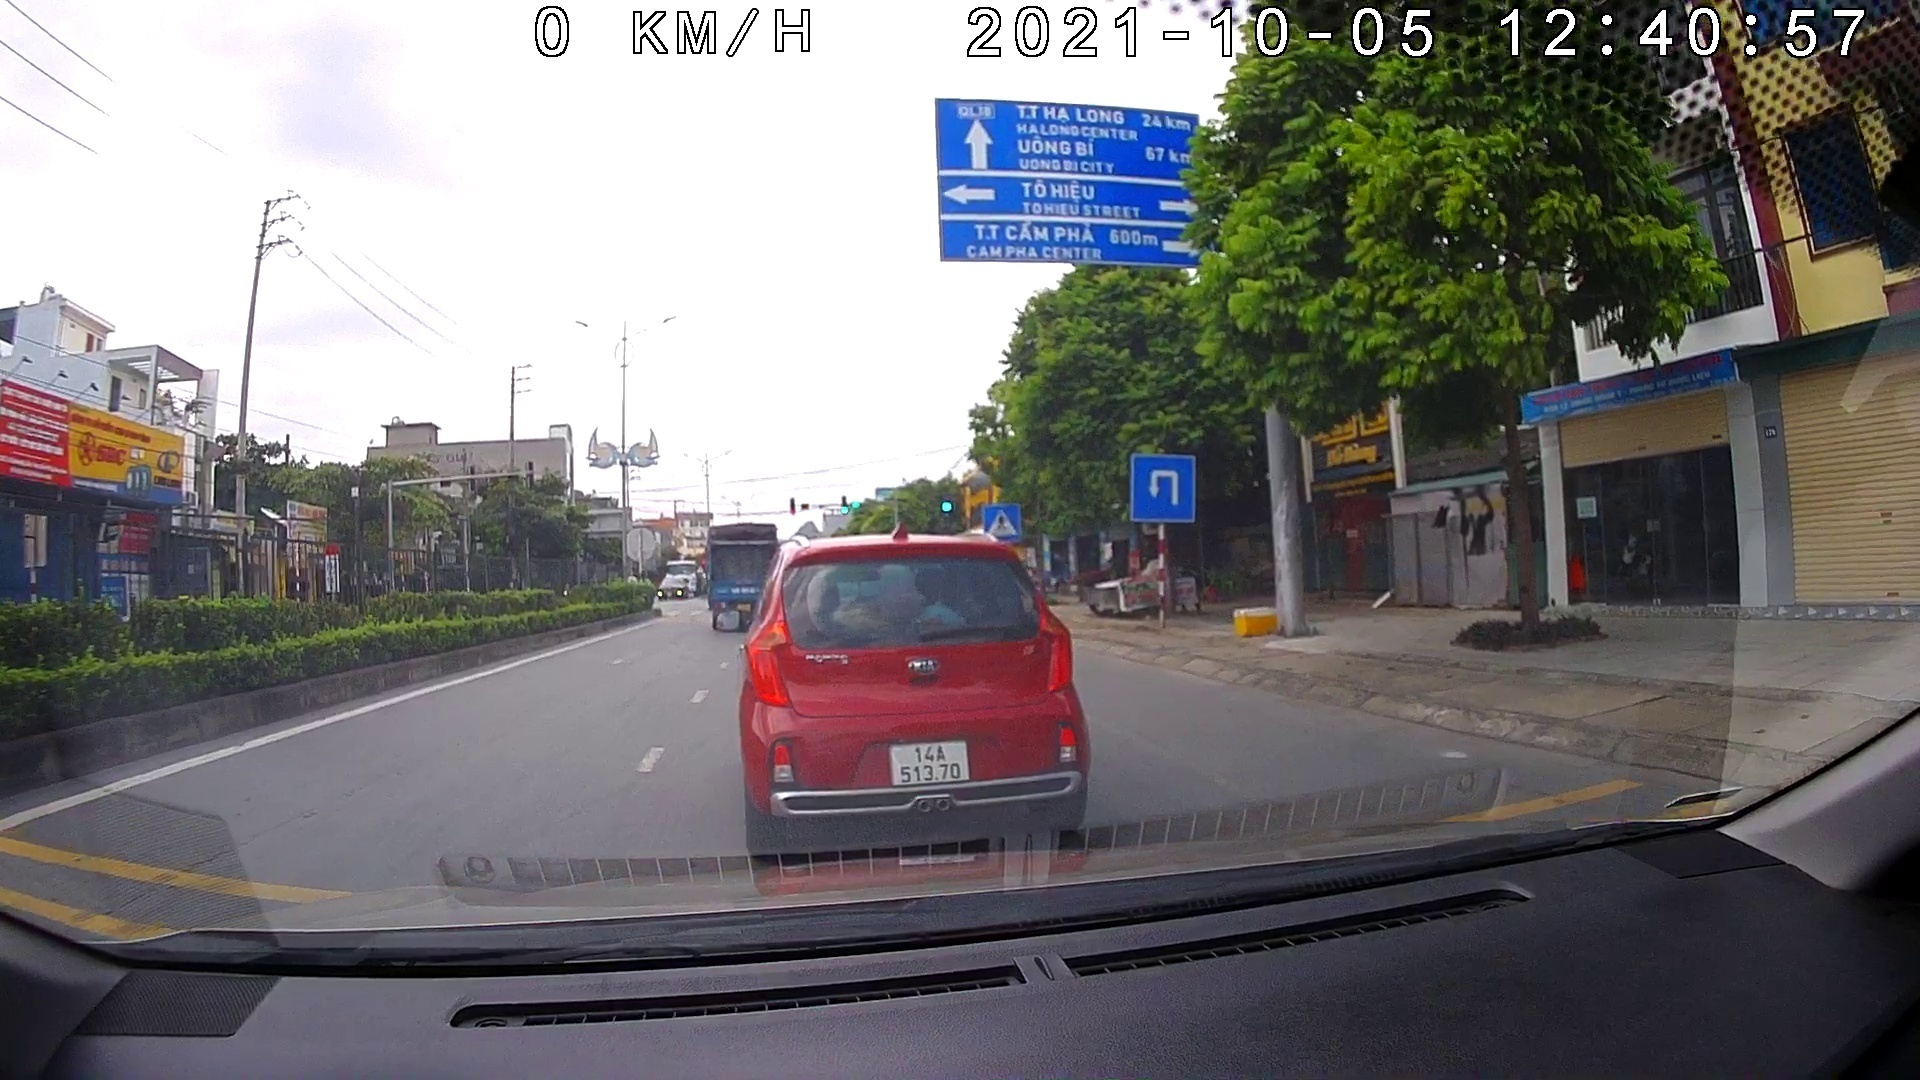Bien khac: (1127, 450, 1193, 524)
Nguoi di bo: (982, 497, 1021, 543)
